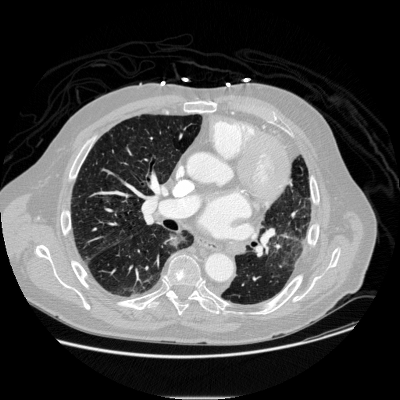nodule: (169, 234, 183, 248)
